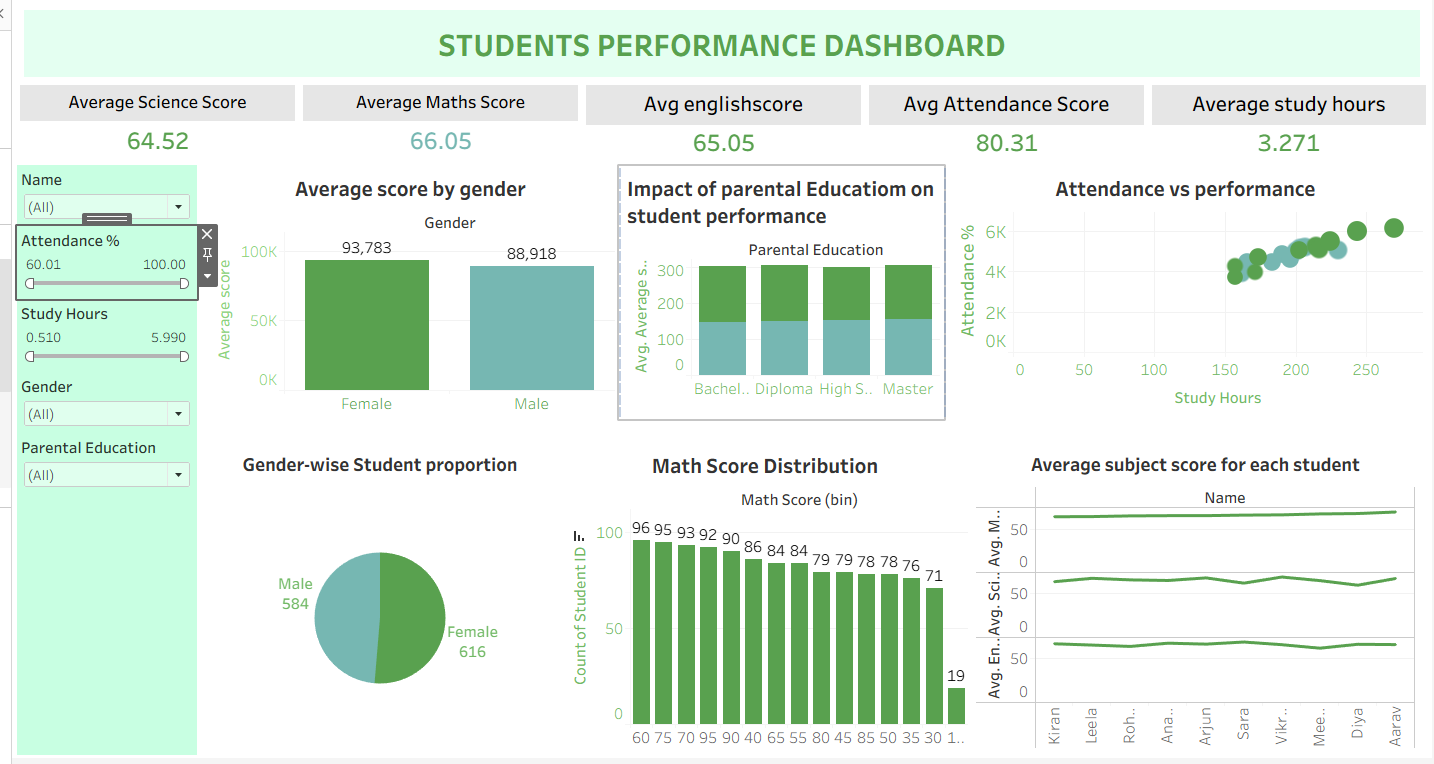

This screenshot's page, from the dashboard's own definition file:
{"tool":"tableau","page":{"name":"Dashboard 1","canvas":[1000,1000],"units":"permille","ordinal":0},"visuals":[{"type":"title","box":[5.6,10.5,988.7,98.7]},{"type":"worksheet","title":"Average science score","mark":"Automatic","box":[2.8,109.2,199.3,104]},{"type":"worksheet","title":"Average maths score","mark":"Automatic","box":[202.1,109.2,199.3,104]},{"type":"worksheet","title":"Average english score","mark":"Automatic","box":[401.4,109.2,199.3,104]},{"type":"worksheet","title":"Average Attendence score","mark":"Automatic","box":[600.7,109.2,199.3,104]},{"type":"worksheet","title":"Average study hours","mark":"Automatic","box":[800,109.2,198.6,104]},{"type":"filter","title":"bubble chart","param":"[federated.1k711h506enbja1ep4i9b1iivlt4].[none:Name:nk]","box":[3.5,219.7,126.8,80.3]},{"type":"worksheet","title":"bar chart","mark":"Automatic","rows":["Calculation_1324058302356426752"],"cols":["Gender"],"box":[133.8,221.1,293.7,332.9]},{"type":"worksheet","title":"Sheet 11","mark":"Automatic","rows":["Calculation_1324058302356426752"],"cols":["Parental_Education"],"box":[427.5,221.1,228.9,332.9]},{"type":"worksheet","title":"bubble chart","mark":"Circle","rows":["Attendance_%"],"cols":["Study_Hours"],"box":[656.3,221.1,340.2,332.9]},{"type":"filter","title":"bubble chart","param":"[federated.1k711h506enbja1ep4i9b1iivlt4].[none:Attendance_%:qk]","box":[3.5,300,126.8,96.1]},{"type":"filter","title":"bubble chart","param":"[federated.1k711h506enbja1ep4i9b1iivlt4].[none:Study_Hours:qk]","box":[3.5,396.1,126.8,96.1]},{"type":"filter","title":"bar chart","param":"[federated.1k711h506enbja1ep4i9b1iivlt4].[none:Gender:nk]","box":[3.5,492.1,126.8,80.3]},{"type":"filter","title":"bar chart","param":"[federated.1k711h506enbja1ep4i9b1iivlt4].[none:Parental_Education:nk]","box":[3.5,572.4,126.8,80.3]},{"type":"worksheet","title":"pie chart","mark":"Pie","box":[133.8,585.5,250.7,407.9]},{"type":"worksheet","title":"histogram","mark":"Bar","rows":["StudentID"],"cols":["Math Score (bin)"],"box":[384.5,585.5,291.6,407.9]},{"type":"worksheet","title":"line chart","mark":"Line","rows":["Math_Score","Science_Score","English_Score"],"cols":["Name"],"box":[676.1,585.5,314.8,407.9]}]}

Visuals, with their boxes on the dashboard's canvas, which has no fixed pixel size, in thousandths of its width and height (x1, y1, x2, y2). These are canvas units, not pixel positions in the 1434x764 screenshot, which may show the page scaled, cropped or inside an application window:
title: (6,10,994,109)
"Average science score" worksheet: (3,109,202,213)
"Average maths score" worksheet: (202,109,401,213)
"Average english score" worksheet: (401,109,601,213)
"Average Attendence score" worksheet: (601,109,800,213)
"Average study hours" worksheet: (800,109,999,213)
"bubble chart" filter: (4,220,130,300)
"bar chart" worksheet: (134,221,428,554)
"Sheet 11" worksheet: (428,221,656,554)
"bubble chart" worksheet (Circle marks): (656,221,996,554)
"bubble chart" filter: (4,300,130,396)
"bubble chart" filter: (4,396,130,492)
"bar chart" filter: (4,492,130,572)
"bar chart" filter: (4,572,130,653)
"pie chart" worksheet (Pie marks): (134,586,384,993)
"histogram" worksheet (Bar marks): (384,586,676,993)
"line chart" worksheet (Line marks): (676,586,991,993)
